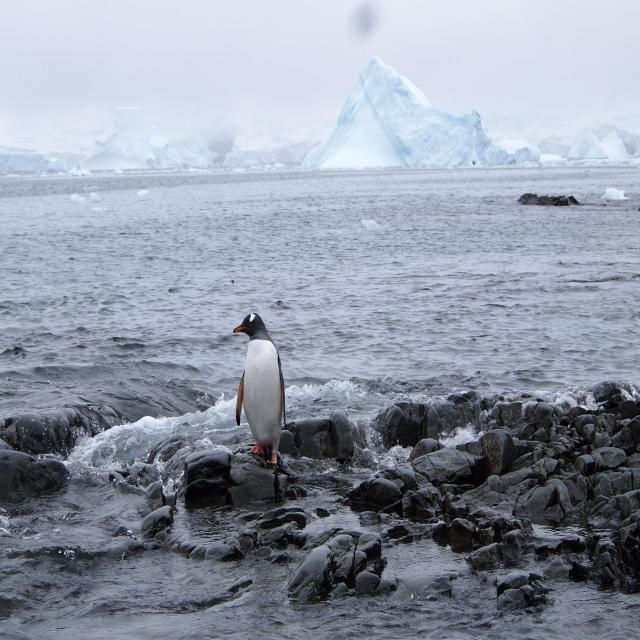Penguins: (228, 300, 290, 467)
